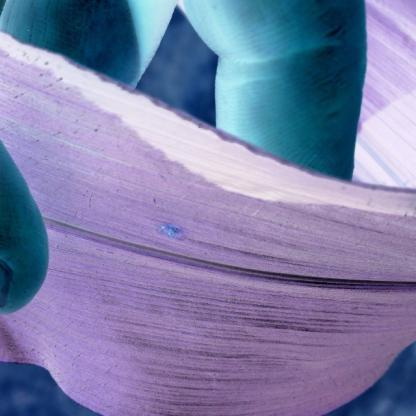Corn rust leaf: (193, 3, 367, 368)
